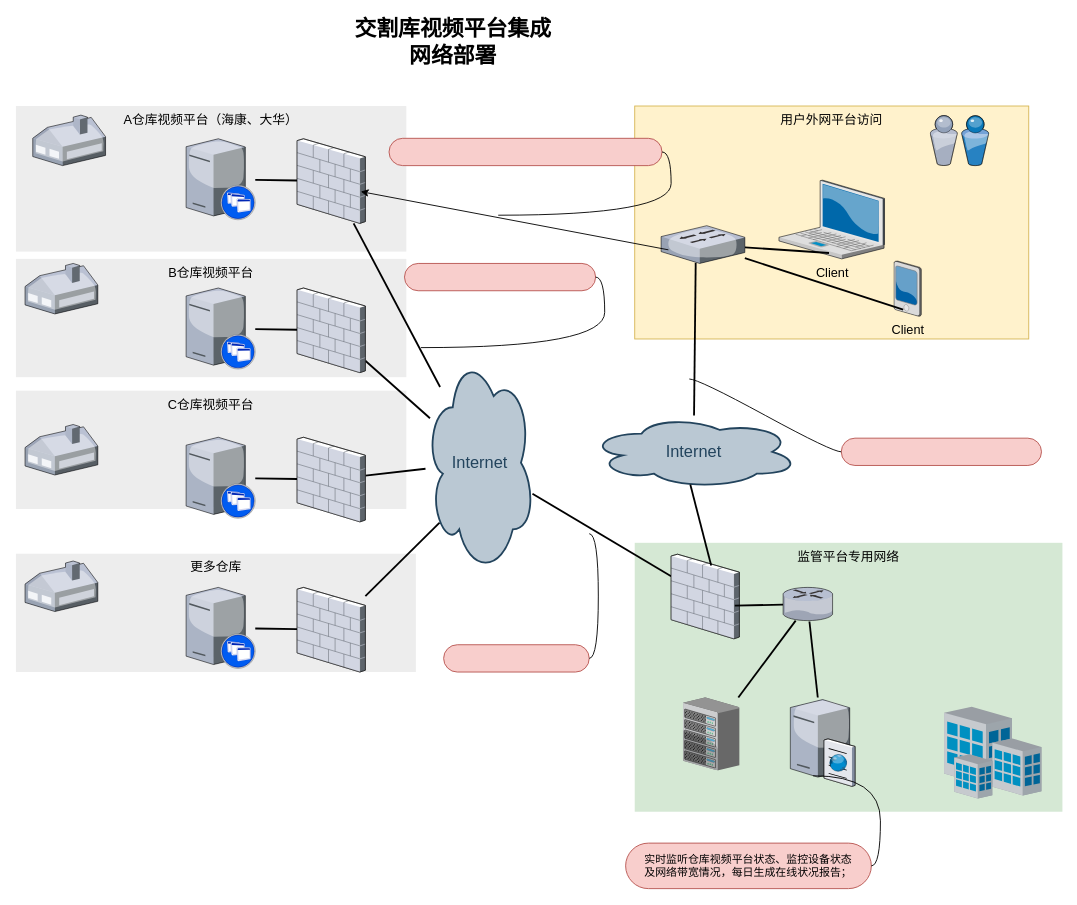
The diagram is 1077 pixels wide and 905 high, and some of its shapes have lost their labels. The centre of each missing label's shape, as x and y in pixels:
DNS: (x=710, y=733)
从仓库直接拉流播放；用户访问端带宽标准100M: (x=525, y=151)
仓库网络带宽标准，专线200M: (x=500, y=277)
仓库视频平台集中注册: (x=516, y=658)
监控平台: (x=822, y=741)
访问平台拉取在线监控设备及配置: (x=940, y=451)
